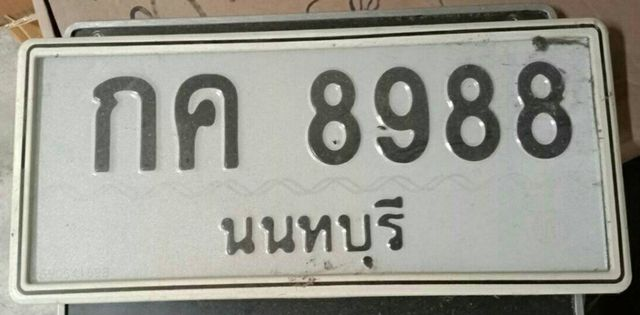txt01: (88, 73, 160, 175)
txt03: (170, 70, 243, 173)
